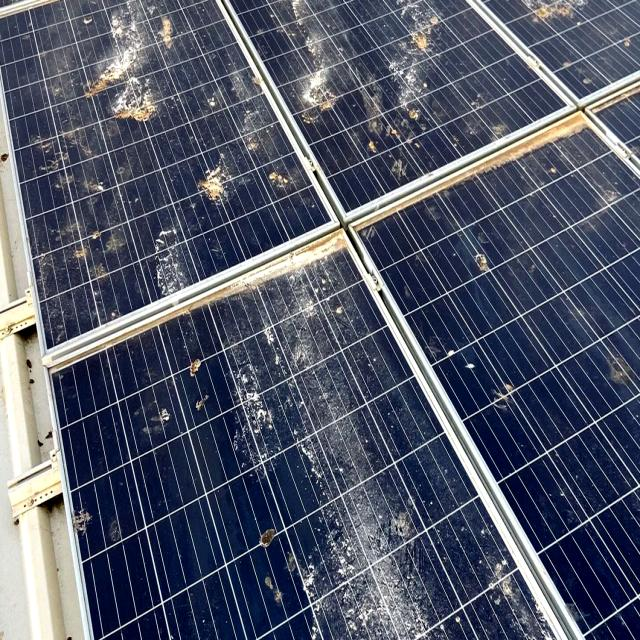bird: (76, 42, 160, 166), (248, 494, 318, 634), (466, 530, 551, 640), (223, 349, 283, 476), (354, 96, 442, 180), (348, 438, 408, 556), (297, 268, 348, 376), (65, 162, 104, 301), (295, 12, 335, 130), (178, 141, 238, 218), (255, 118, 308, 205), (60, 491, 134, 552), (458, 91, 519, 158), (171, 335, 216, 425), (519, 0, 600, 50), (447, 234, 512, 296), (140, 4, 188, 80), (606, 328, 640, 425), (150, 216, 188, 299), (388, 20, 442, 67), (489, 354, 526, 420), (596, 170, 629, 240)
